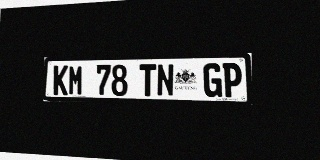7: (95, 65, 111, 96)
8: (111, 64, 128, 96)
G: (203, 63, 222, 97)
K: (53, 65, 68, 95)
M: (68, 65, 83, 95)
N: (157, 64, 174, 97)
P: (222, 63, 242, 97)
T: (139, 64, 156, 96)
